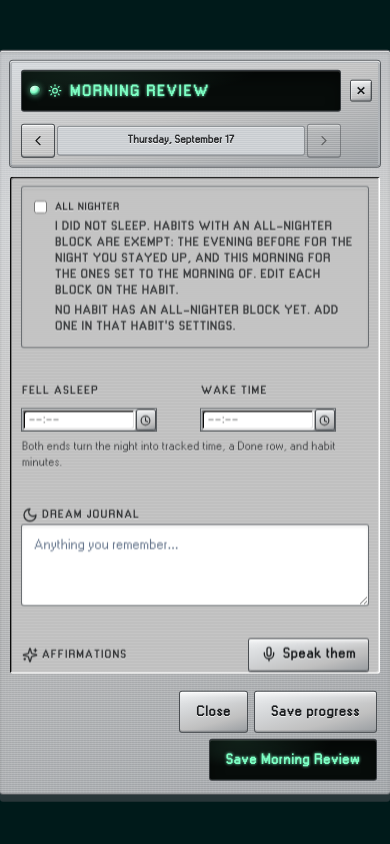
MorningReviewDialog › saves one answer and leaves the dialog open
In the text box with placeholder "Anything you remember…": (195, 565) [22,525,368,605], type "a long hallway"
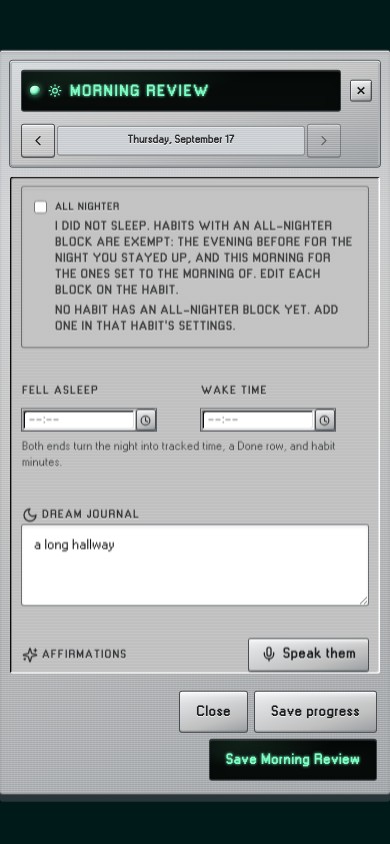
Click the button "Save progress": (316, 711) [255,691,376,731]
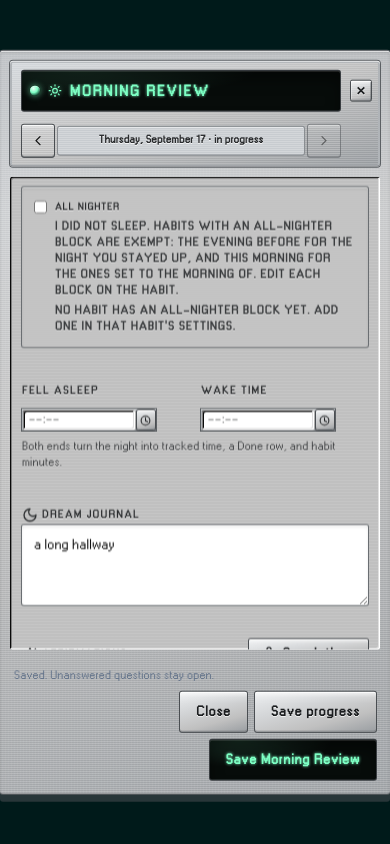
Now the text "Saved. Unanswered questions stay open." is shown, box [14,669,214,680]
